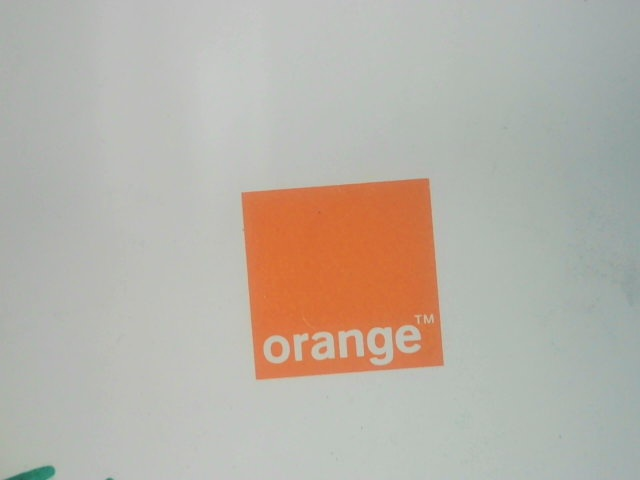AR_Orange: (195, 170, 460, 383)
